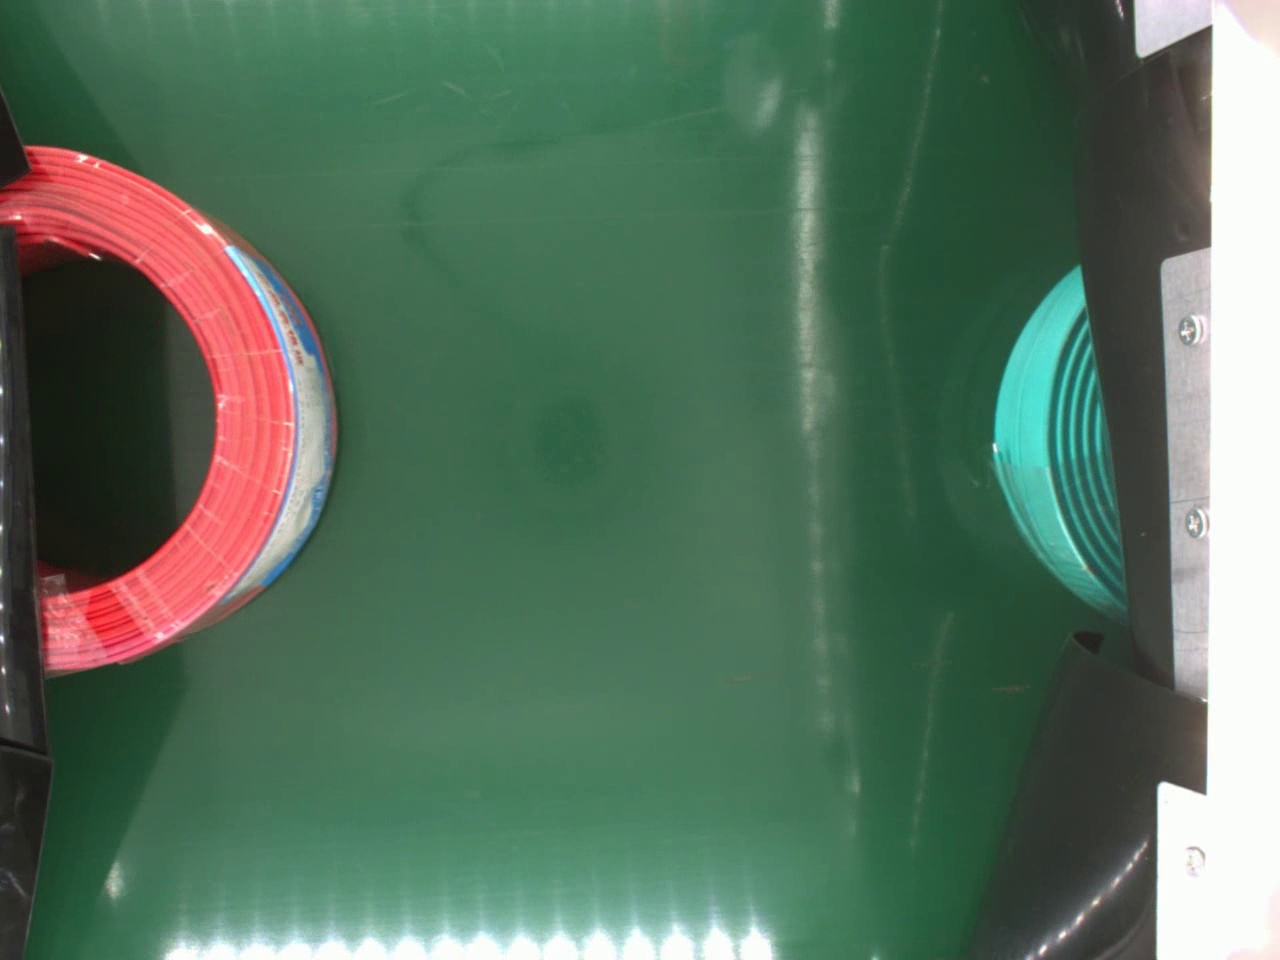green: (991, 267, 1121, 618)
red: (4, 142, 337, 674)
